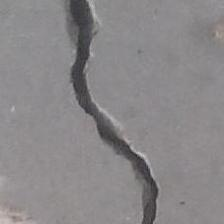Crack: (23, 0, 216, 224)
